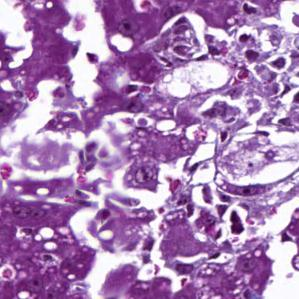ballooning: (159, 57, 235, 102)
